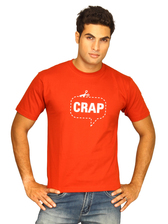clothoes: (13, 57, 151, 194)
